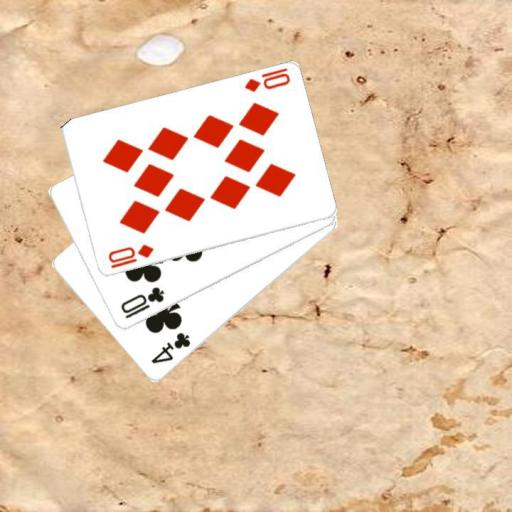10C: (117, 284, 166, 321)
10D: (241, 65, 292, 94), (105, 242, 155, 270)
4C: (148, 329, 192, 366)
